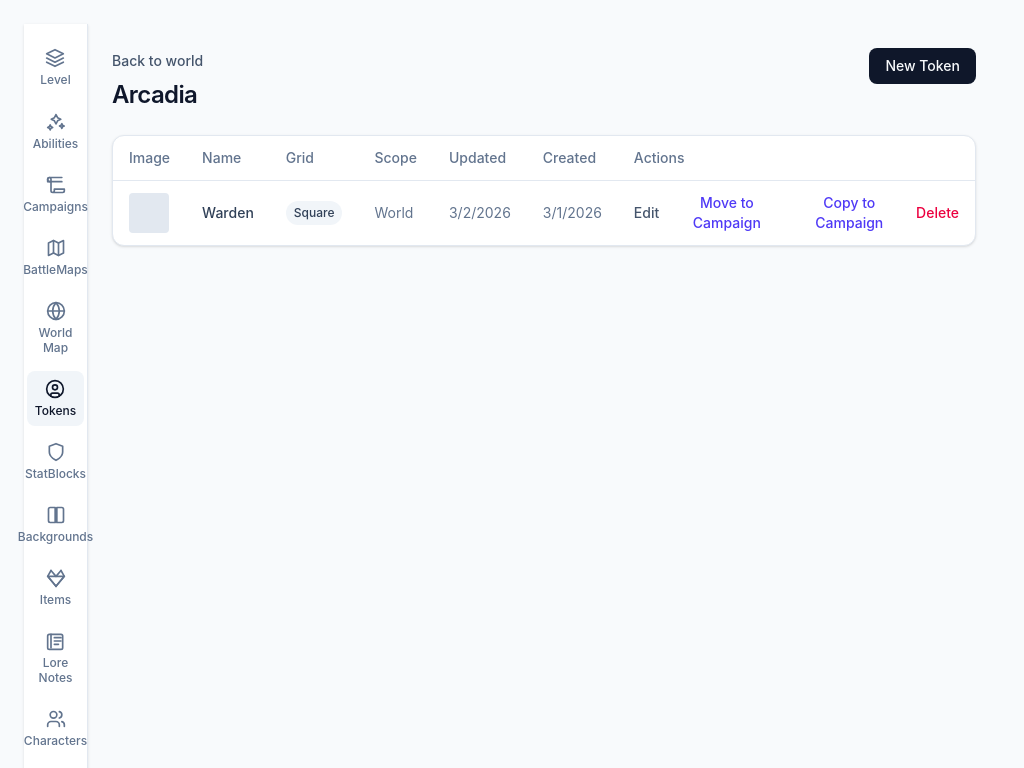
Test: TokensPage › cancels delete confirmation without deleting
Check: the text "Warden" is shown, box [186,180,270,245]
Click the button "Delete": {"x": 938, "y": 213} [916,193,959,233]
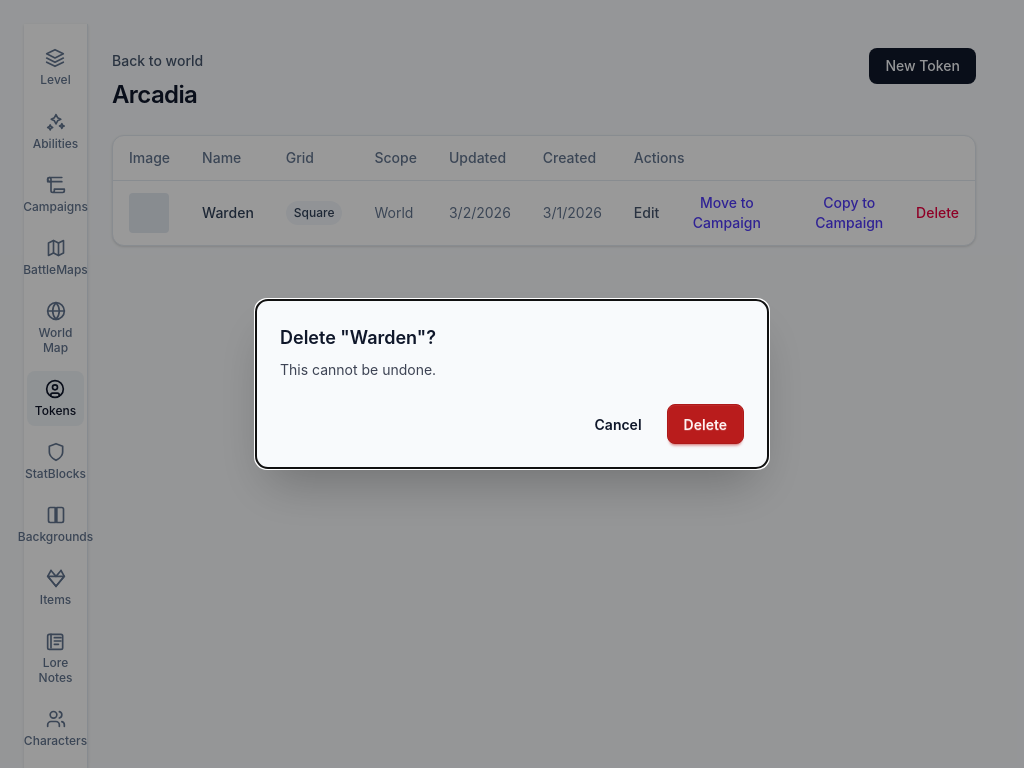
Click the button "Cancel": {"x": 618, "y": 424} [578,404,658,444]
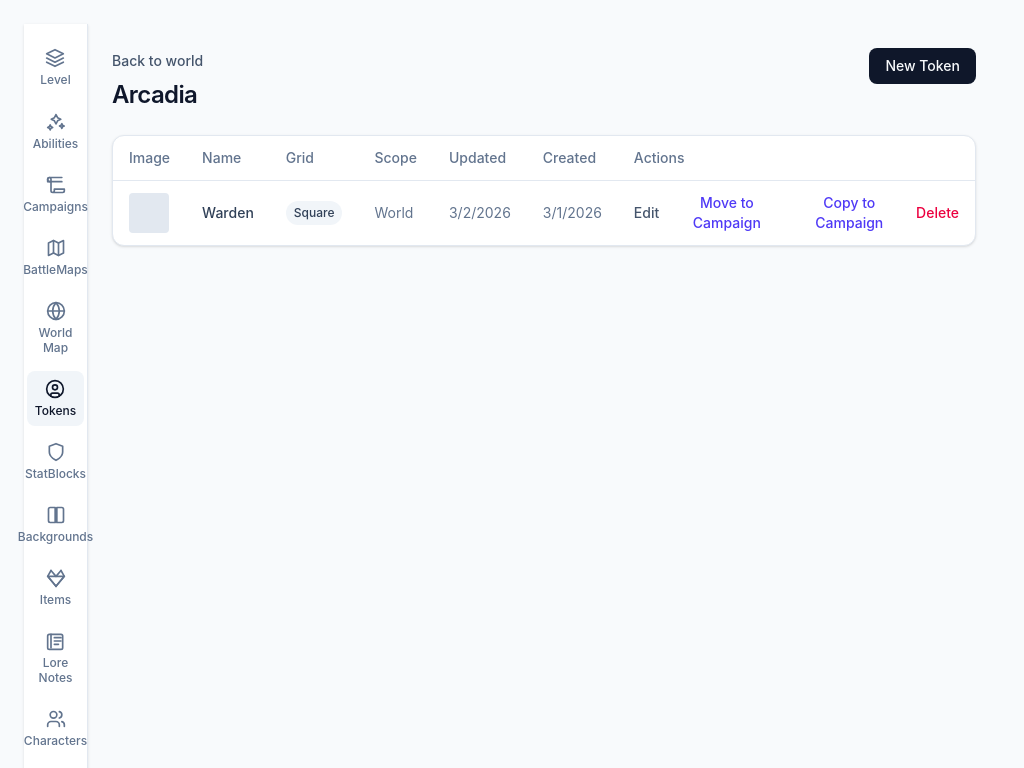
Check: the heading "Delete \"Warden\"?" is gone
